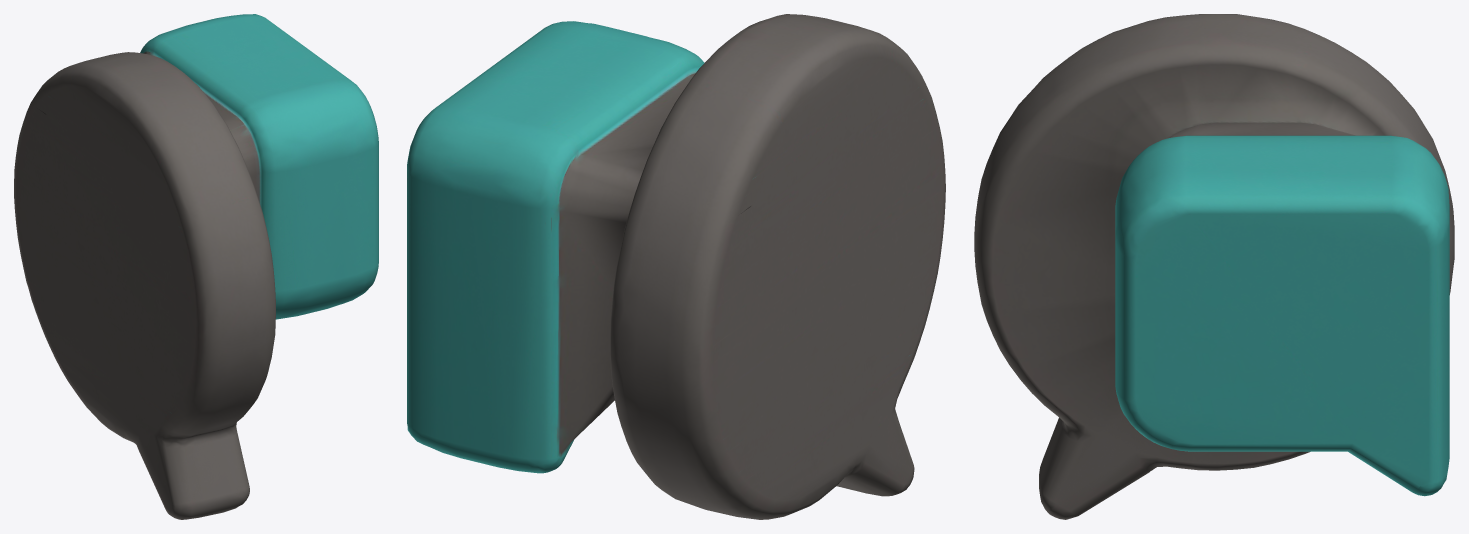
File: icon-speech.glb
The picture shows the model from 3 angles, left to right: view 1: azimuth 30°, elevation 25°; view 2: azimuth 150°, elevation 25°; view 3: azimuth 270°, elevation 25°; orthographic projection. The views are drawn at different scales.
Visible parts, largest first — view 1: tripo_node_kodyurd-model-66____________________; view 2: tripo_node_kodyurd-model-66____________________; view 3: tripo_node_kodyurd-model-66____________________.
Boxes of the visible parts, left/top/right/bottom form: tripo_node_kodyurd-model-66____________________: left=14, top=14, right=378, bottom=519; tripo_node_kodyurd-model-66____________________: left=407, top=14, right=945, bottom=519; tripo_node_kodyurd-model-66____________________: left=974, top=14, right=1454, bottom=519.
Bounding box in the file's own units: 0.6309 × 0.998 × 0.9121.
1 material, 1 textured.
